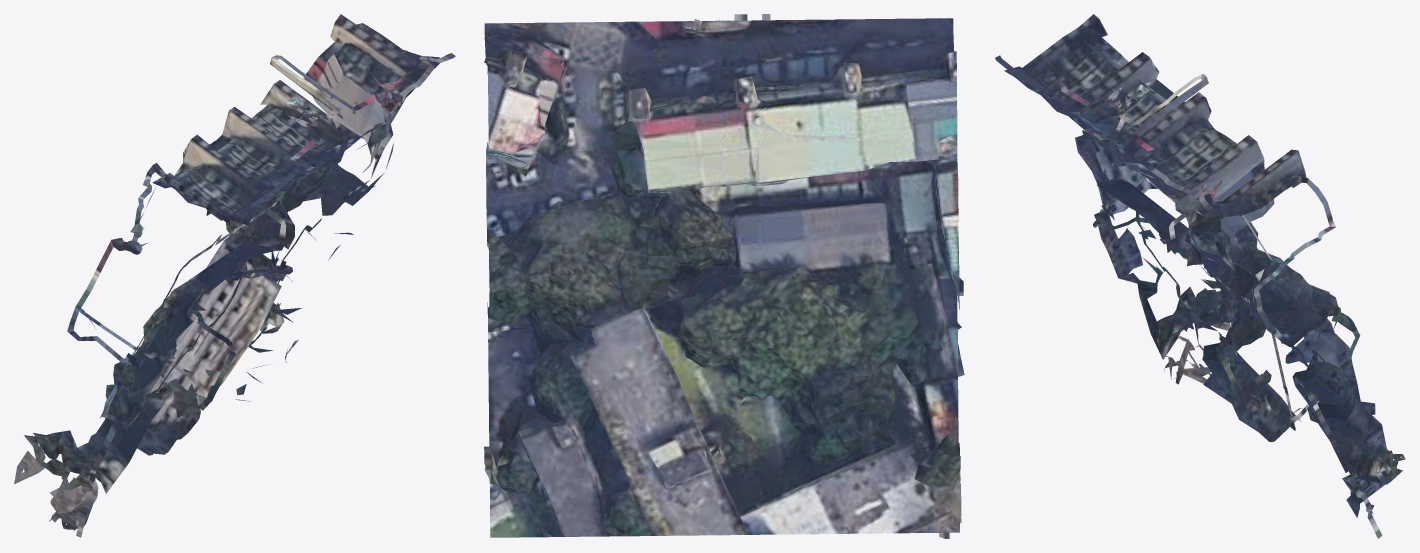
3 views of the same model, side by side, from view 1: azimuth 30°, elevation 25°; view 2: azimuth 150°, elevation 25°; view 3: azimuth 270°, elevation 25° (orthographic). The views are drawn at different scales.
Size of the model in its own units: 83.39 by 76.97 by 68.68.
Materials: 1 (1 with a texture image).
